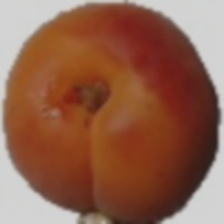apricot: (12, 17, 187, 190)
